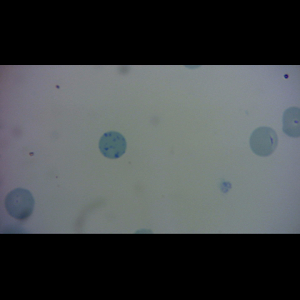aggregate reticulocyte: (97, 130, 128, 160)
erythrocyte: (3, 186, 36, 220), (248, 125, 281, 158)
